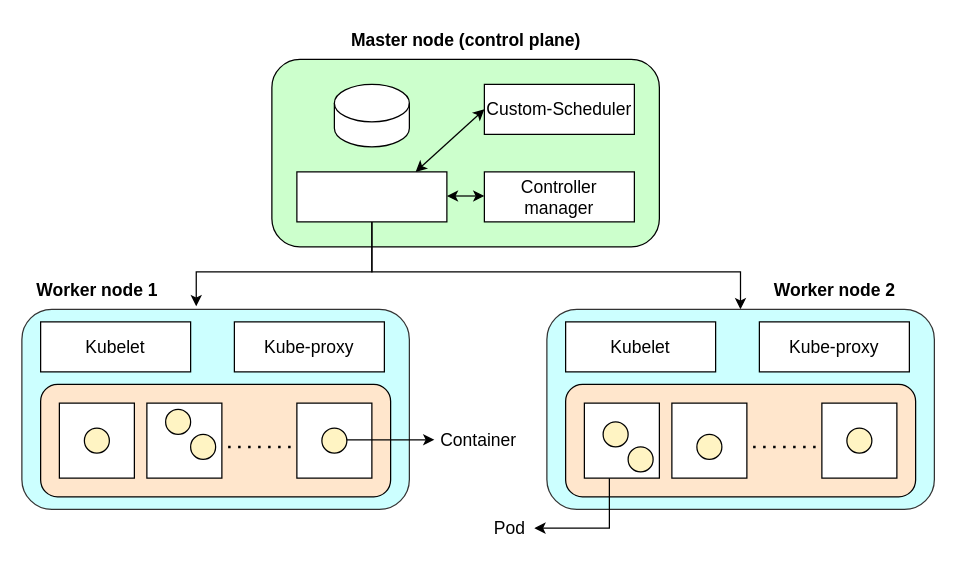
Some shapes in this 956 by 568 pixel diagram are drawn without their labels. The shapes that lost their labels are listed below. From the top down, each one's centre as x and y in pixels, then its label:
(x=371, y=115): etcd
(x=371, y=196): API server
